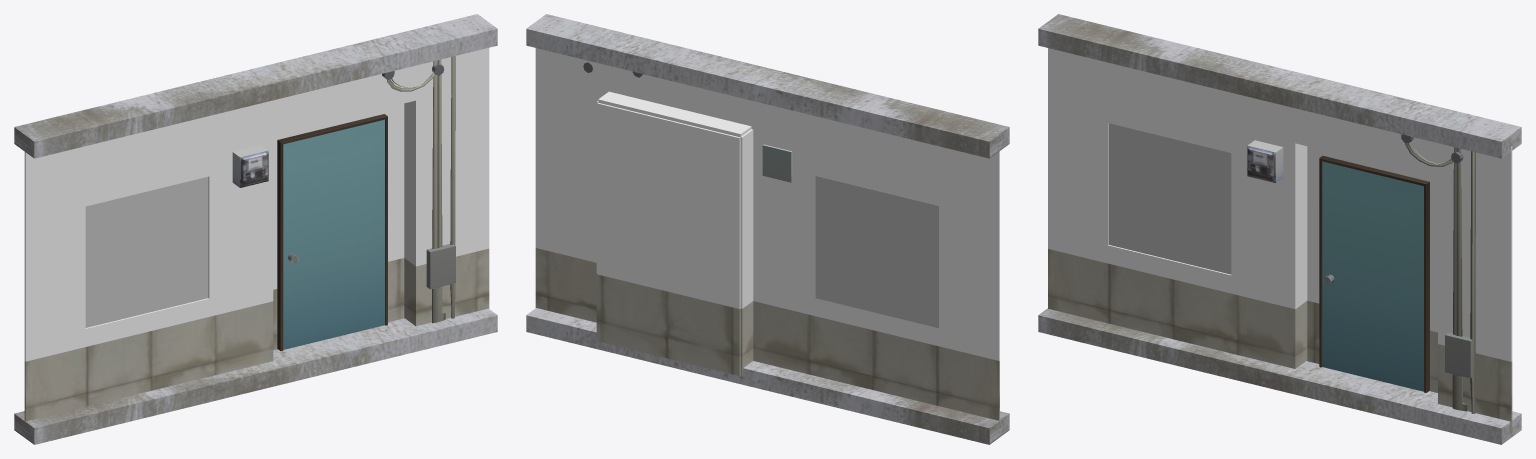
Rendered from shop_f_null04b.fbx.
3 renders of one model, left to right at view 1: azimuth 30°, elevation 25°; view 2: azimuth 150°, elevation 25°; view 3: azimuth 330°, elevation 25°, orthographic.
Parts seen in each view (by area): view 1: shop_f_null04b; view 2: shop_f_null04b; view 3: shop_f_null04b.
Boxes of the visible parts, x1,y1,x2,y2 form: shop_f_null04b: [14, 14, 497, 444]; shop_f_null04b: [526, 14, 1009, 444]; shop_f_null04b: [1038, 14, 1521, 444].
Bounding box in the file's own units: 5.45 × 3.41 × 0.4454.
